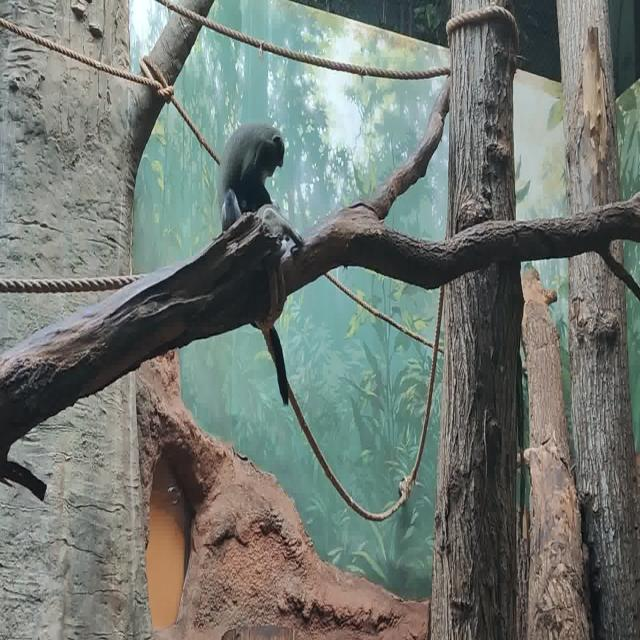monkey: (218, 123, 285, 232)
